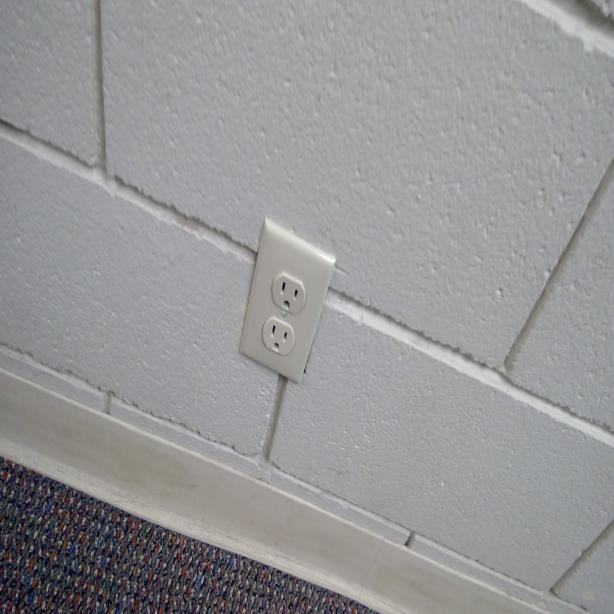typeb: (276, 272, 302, 312), (270, 318, 291, 356)
